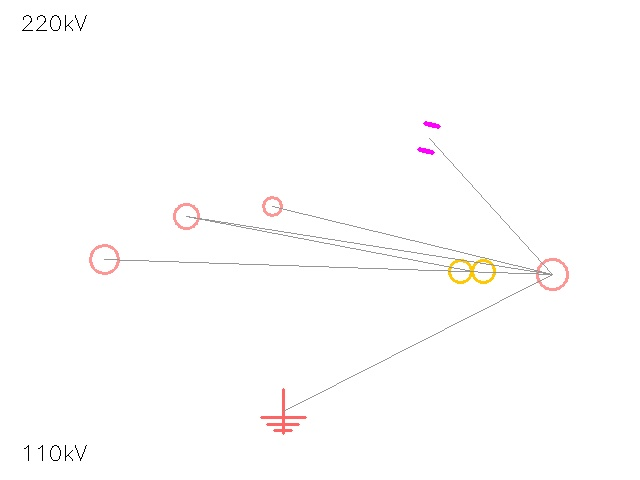capacitor: (407, 116, 451, 160)
current_transformer: (162, 192, 210, 240)
ground: (261, 389, 305, 433)
load_break_switch: (254, 188, 290, 224)
surge_arrester: (522, 244, 582, 304), (75, 230, 133, 288)
transformer_2w: (444, 243, 500, 299)
